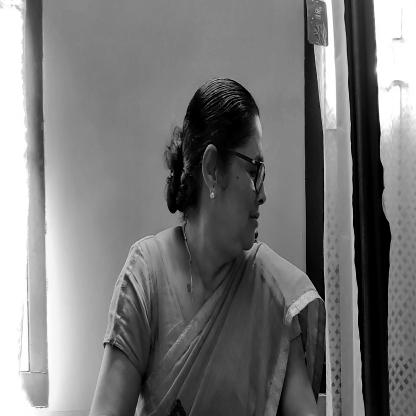Distracted: (167, 82, 269, 247)
